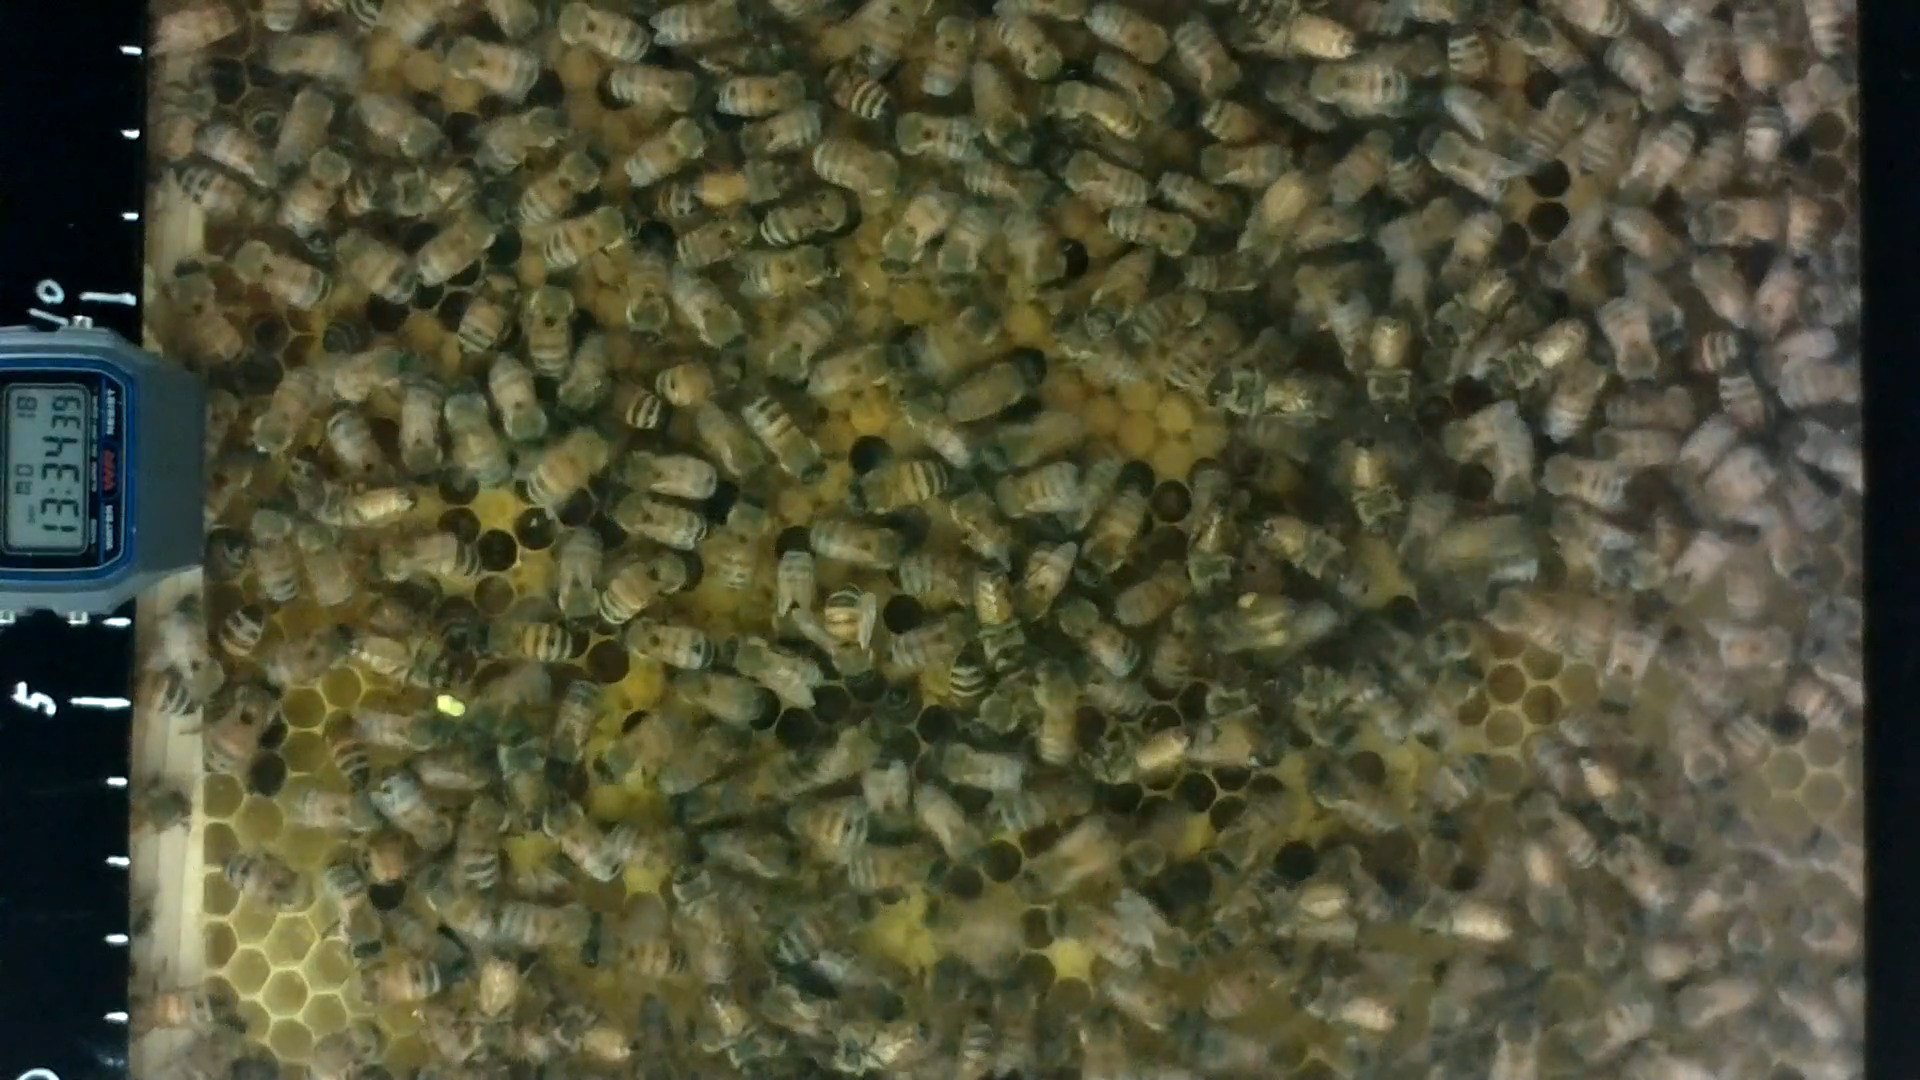hati: (231, 243, 340, 320), (541, 790, 626, 886), (745, 390, 829, 488), (843, 448, 956, 521), (446, 381, 513, 497), (876, 174, 945, 282), (328, 228, 415, 313), (372, 527, 485, 592), (202, 680, 284, 767), (1422, 123, 1511, 196), (1302, 55, 1408, 117), (535, 419, 607, 512), (249, 367, 324, 451), (615, 112, 708, 179), (1685, 193, 1788, 253), (514, 150, 595, 227), (880, 112, 977, 173), (735, 632, 818, 703), (600, 549, 684, 618), (1168, 16, 1244, 94), (618, 616, 727, 670), (1524, 80, 1594, 164), (1606, 289, 1660, 396), (1058, 146, 1150, 208), (248, 498, 301, 607), (438, 38, 541, 94), (456, 790, 512, 893), (550, 526, 603, 632), (1095, 204, 1197, 258), (473, 616, 574, 671), (460, 270, 517, 367), (928, 738, 1034, 790), (615, 444, 715, 498), (622, 240, 673, 347), (322, 870, 377, 967), (550, 3, 641, 61), (1538, 455, 1626, 512), (980, 462, 1072, 516), (545, 208, 633, 262), (756, 193, 848, 243), (735, 104, 825, 154), (611, 498, 708, 545), (771, 299, 825, 382), (1187, 142, 1288, 186), (1091, 11, 1175, 62), (526, 281, 571, 375), (596, 63, 694, 105), (711, 73, 806, 115), (745, 251, 822, 287)
